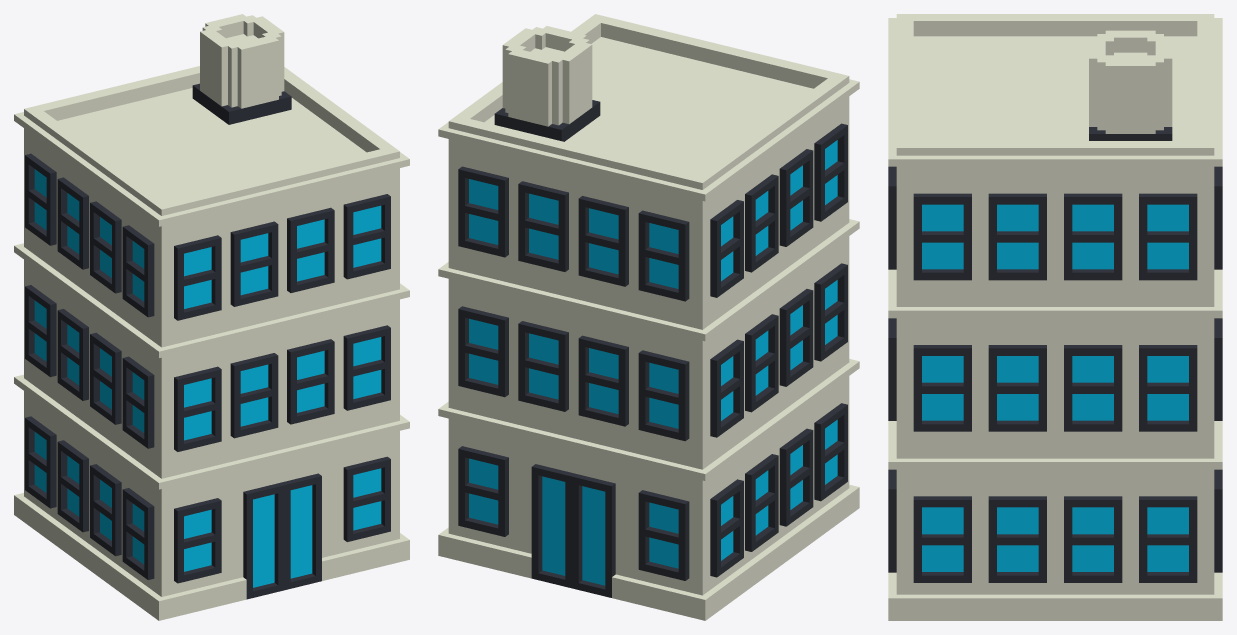
File: WhiteSquareBuilding.obj
3 views of the same model, side by side, from view 1: azimuth 30°, elevation 25°; view 2: azimuth 150°, elevation 25°; view 3: azimuth 270°, elevation 25° (orthographic). The views are drawn at different scales.
Bounding box in the file's own units: 4 × 7.1 × 4.
1 material, 1 textured.
